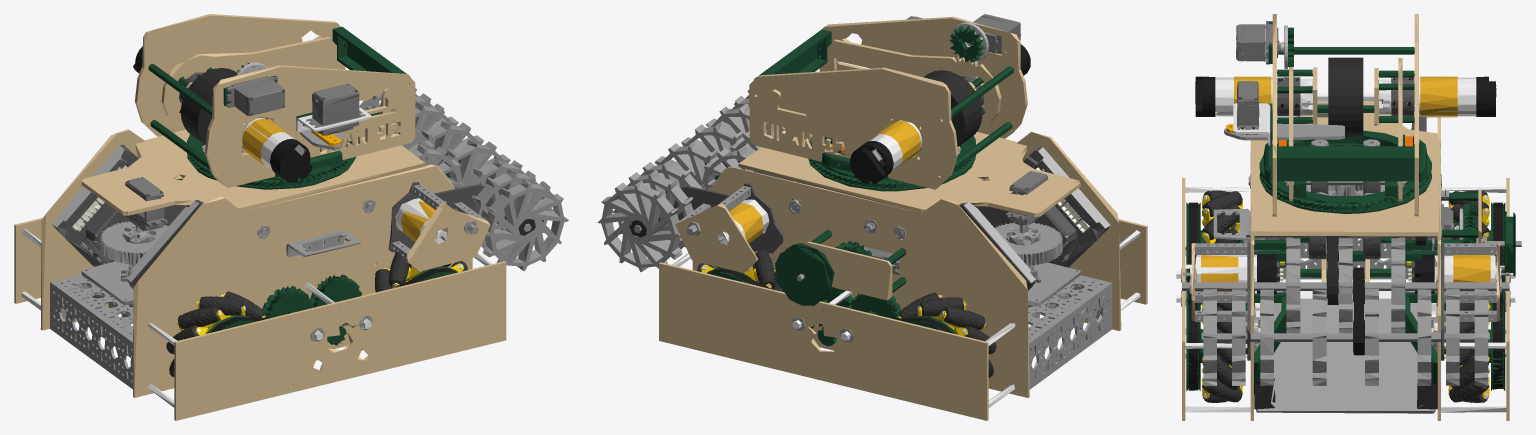
The model's file is uran-v1.glb.
3 renders of one model, left to right at view 1: azimuth 30°, elevation 25°; view 2: azimuth 150°, elevation 25°; view 3: azimuth 270°, elevation 25°, orthographic. The views are drawn at different scales.
Parts seen in each view (by area): view 1: body, turret, intake_front, wheel_br, flywheel, wheel_fr, intake_back; view 2: body, turret, intake_front, wheel_bl, flywheel, intake_back, wheel_fl; view 3: body, turret, intake_front, intake_back, flywheel, wheel_fl, wheel_fr, wheel_br, wheel_bl, transfer_front, transfer_back.
Part boxes in pixels (x1,y1,x2,y2): body: (14,129,531,420); turret: (133,14,415,189); intake_front: (359,88,568,271); wheel_br: (166,291,265,376); flywheel: (180,68,237,145); wheel_fr: (370,251,467,293); intake_back: (366,106,463,198); body: (633,132,1147,420); turret: (749,14,1030,191); intake_front: (597,90,773,272); wheel_bl: (897,292,996,377); flywheel: (924,70,982,146); intake_back: (701,124,803,233); wheel_fl: (697,250,783,292); body: (1176,101,1521,420); turret: (1195,14,1496,216); intake_front: (1203,289,1488,385); intake_back: (1286,238,1405,333); flywheel: (1328,57,1363,136); wheel_fl: (1449,301,1505,402); wheel_fr: (1186,301,1242,402); wheel_br: (1186,190,1242,264); wheel_bl: (1449,190,1505,265); transfer_front: (1308,236,1380,259); transfer_back: (1311,181,1380,194).
Size of the model in its own units: 0.4404 by 0.3049 by 0.3158.
